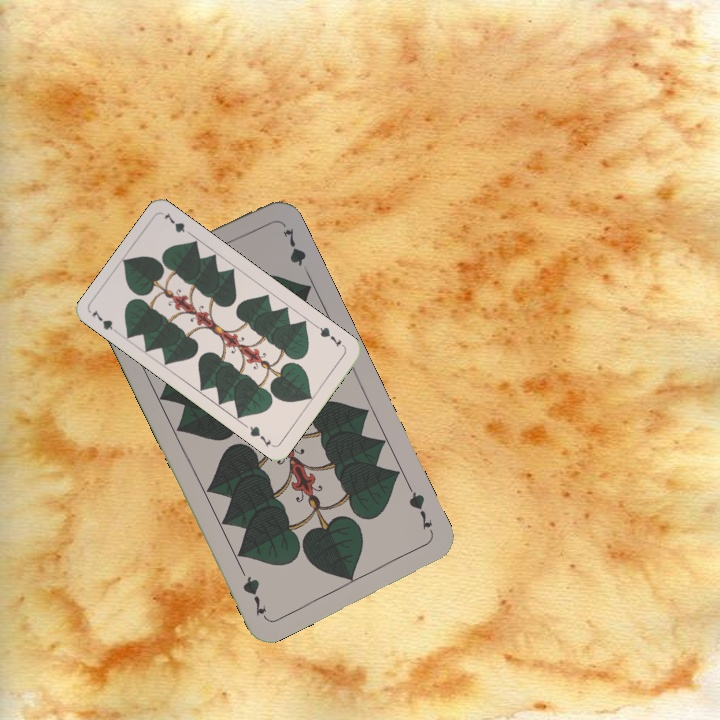G7: (404, 482, 437, 538), (87, 306, 123, 338), (312, 322, 348, 350)
